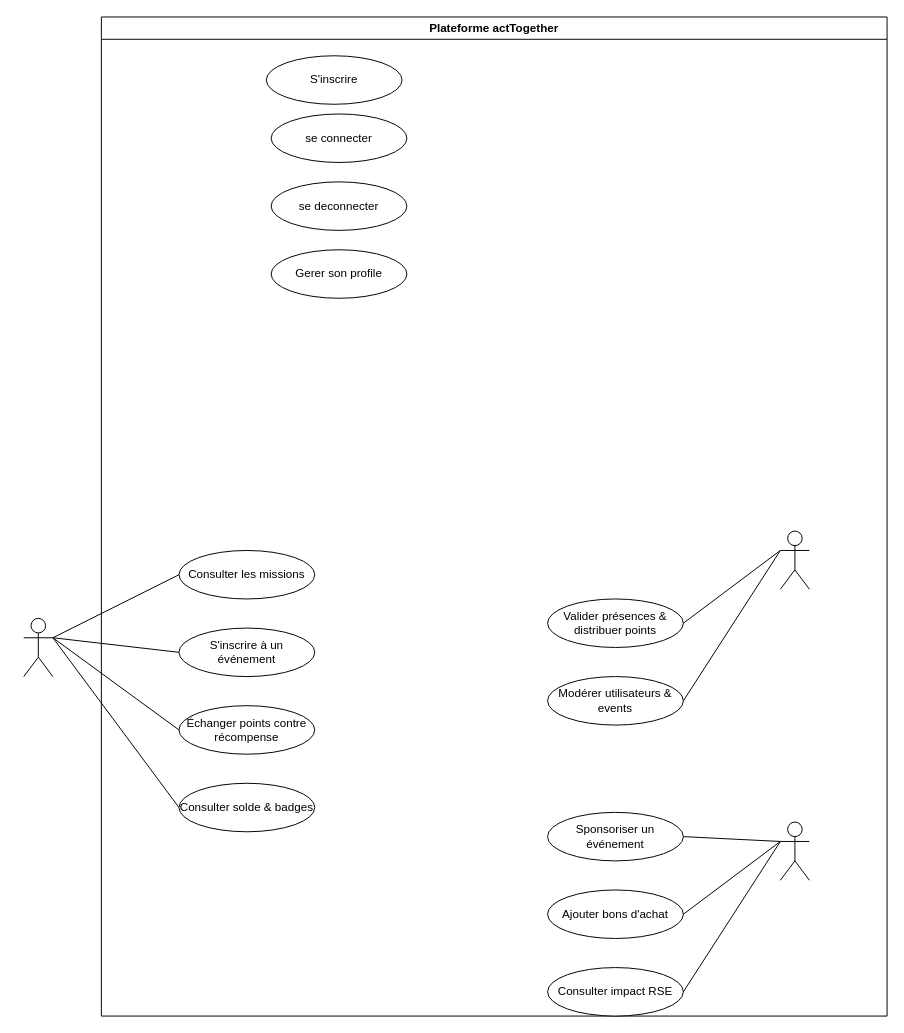
Some shapes in this 904 by 1033 pixel diagram are drawn without their labels. Here are the shapes that lost their labels. From the top down, the centre of each, then its label:
At pixel 794 559: "Administrateur".
At pixel 38 647: "Étudiant".
At pixel 794 850: "Partenaire (Entreprise)".
